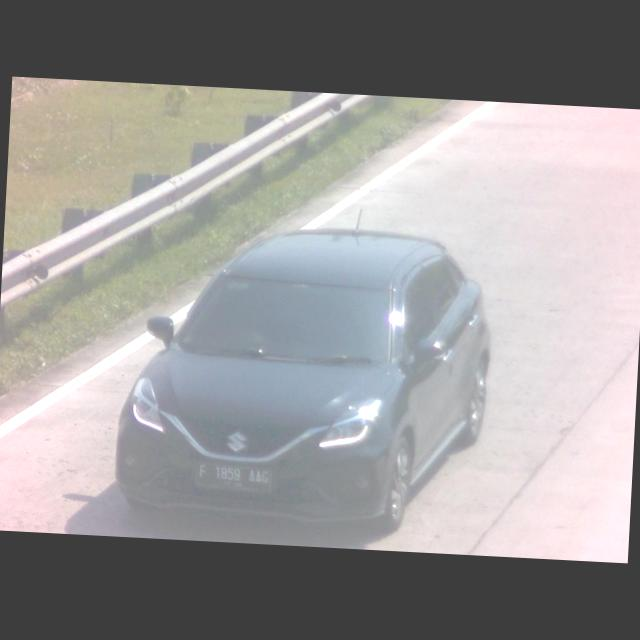plate: (195, 459, 272, 492)
